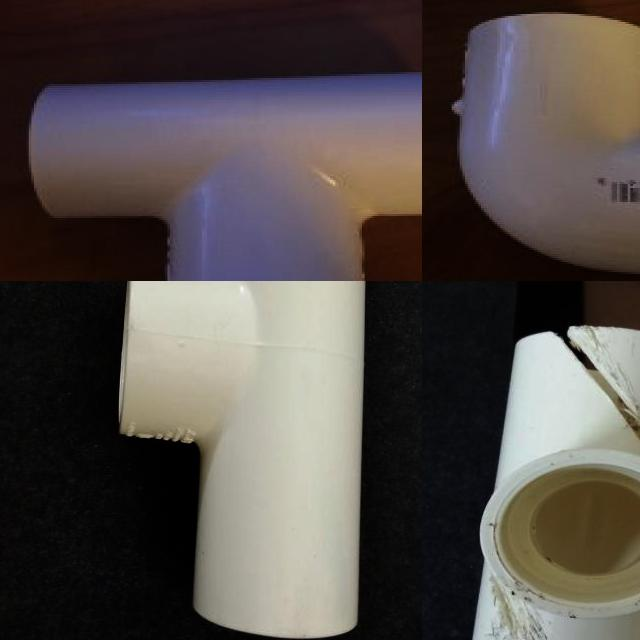Defective: (562, 326, 640, 450), (477, 580, 543, 640)
L Joint: (452, 13, 640, 277)
T Joint: (117, 281, 367, 640), (25, 72, 422, 281), (472, 326, 640, 640)
